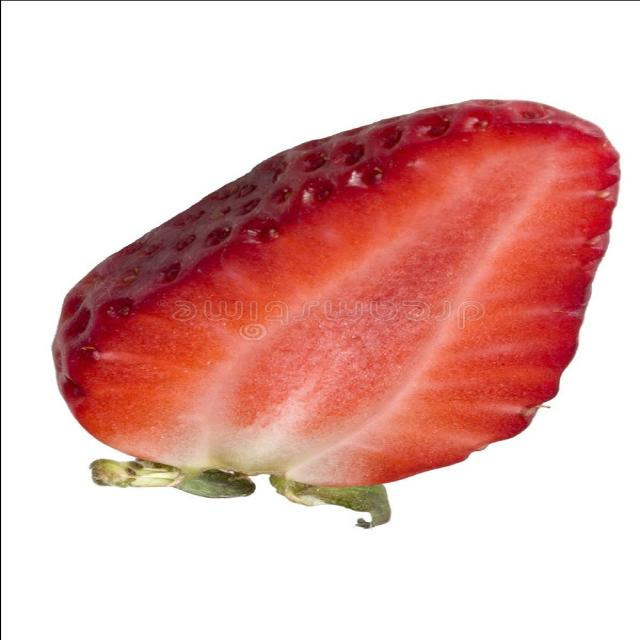strawberry: (16, 82, 640, 543)
